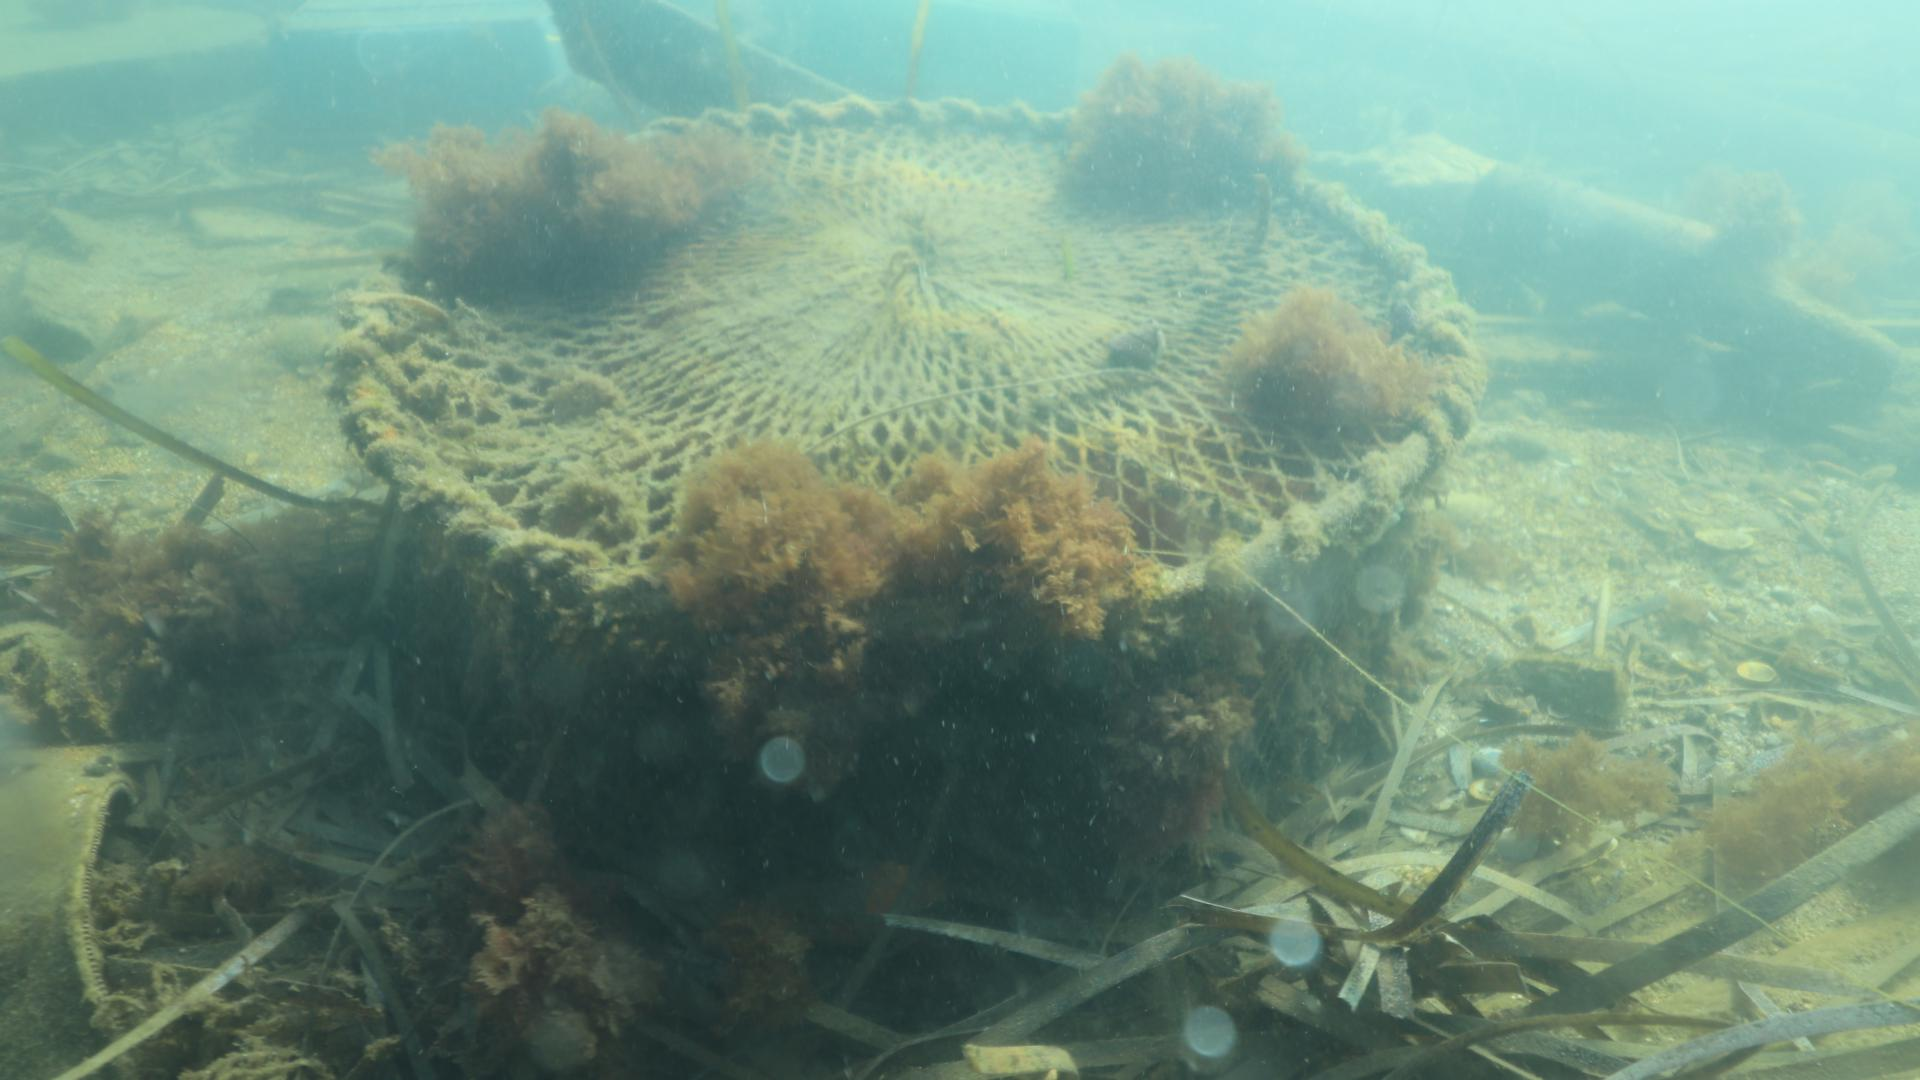circular fish trap: (332, 100, 1486, 832)
